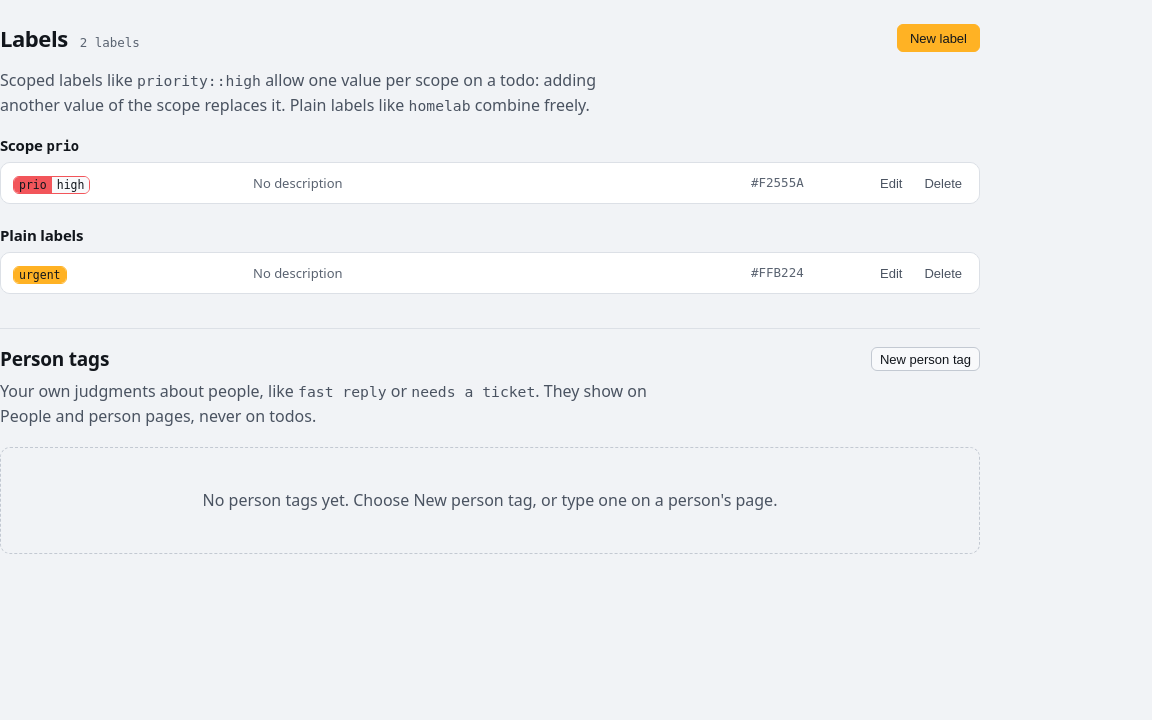
Test case: label rename into a used scope › lists the affected todos and keeps the renamed label only after the user says so
Click the button "Edit" in the row of "urgent": click(891, 273) [871, 261, 911, 285]
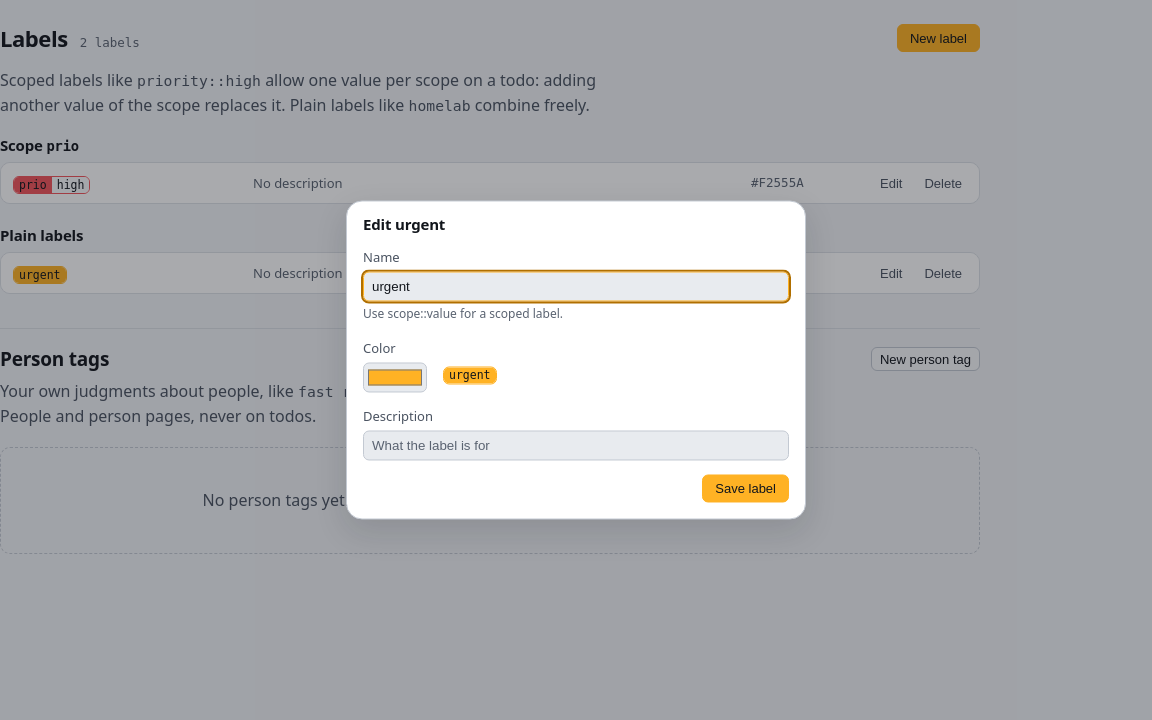
Replace the text in the field labelled "Name Use scope::value for a scoped label." with "prio::urgent": (576, 287) [363, 272, 789, 302]
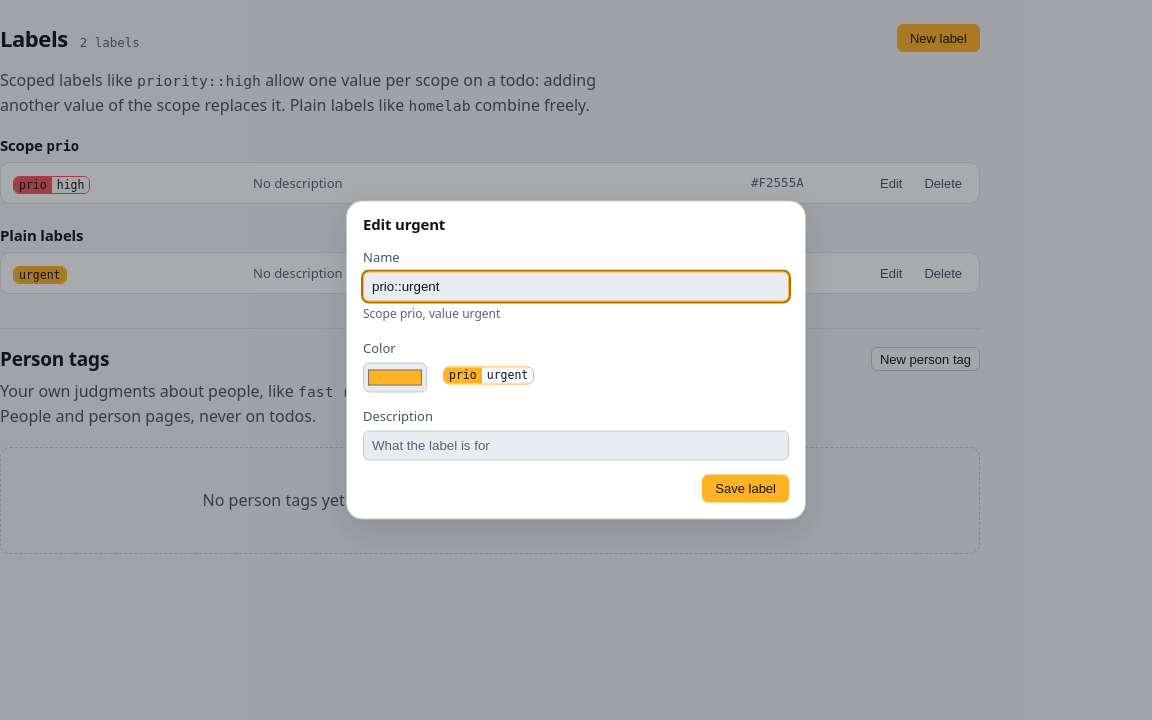
Click the button "Save label": click(746, 488) [702, 474, 789, 502]
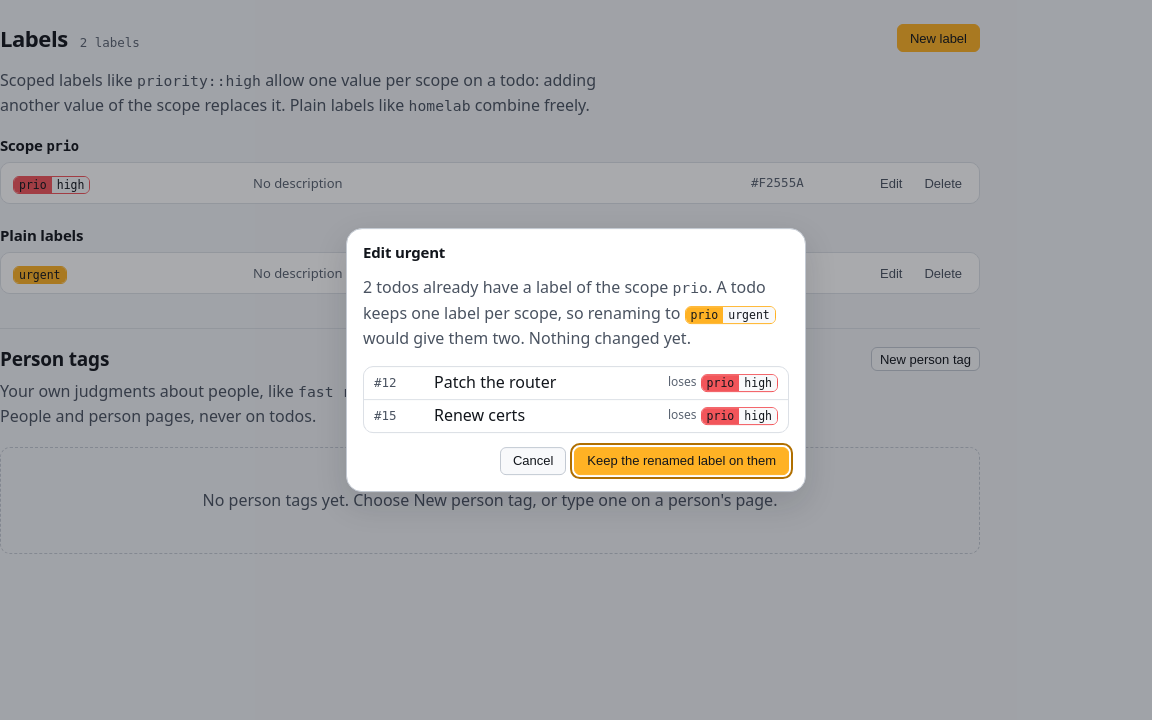
Expected: the text "#12" is shown, [374, 375, 397, 390]
Expected: the text "Renew certs" is shown, [434, 404, 525, 426]
Expected: the text "high" is shown 2 times, [739, 375, 777, 391]; [739, 408, 777, 424]
Click the button "Keep the renamed label on them": click(682, 461) [574, 447, 789, 475]
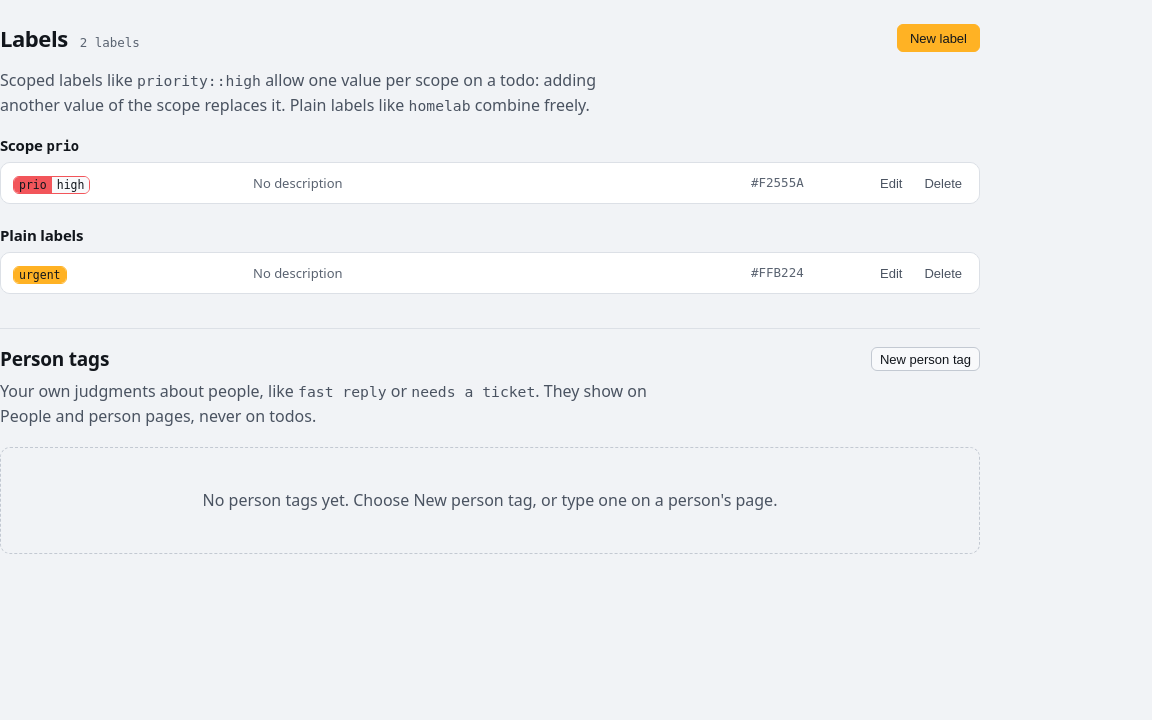
Expected: the dialog is gone
